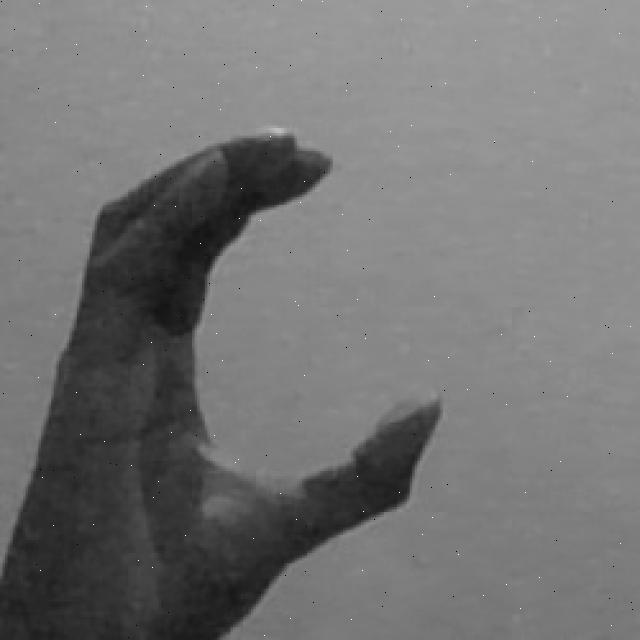C: (0, 130, 438, 640)
